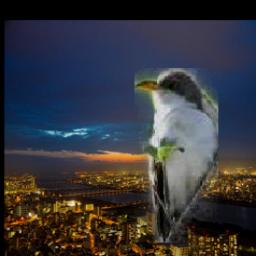Cuckoo: (134, 68, 218, 243)
